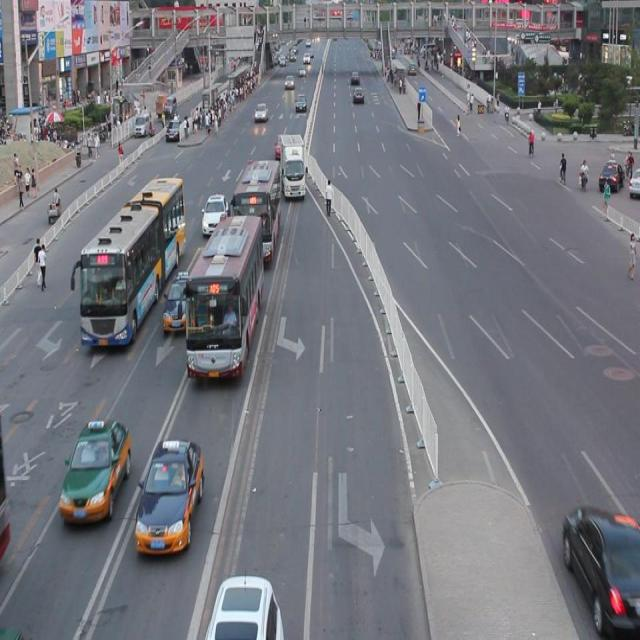bus: (280, 134, 306, 198)
car: (562, 507, 640, 627), (135, 440, 205, 552), (59, 418, 132, 517), (206, 575, 283, 640), (164, 272, 194, 330), (201, 192, 228, 236), (274, 134, 291, 161)
van: (72, 175, 186, 348), (187, 215, 263, 376), (230, 162, 281, 262)
